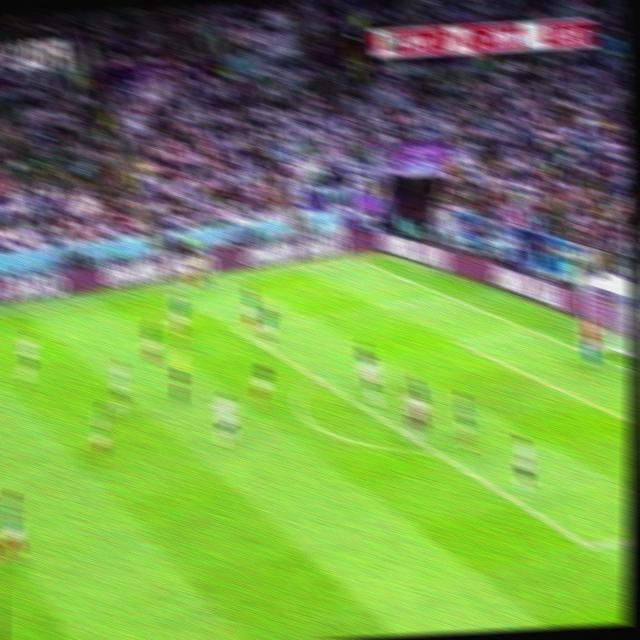bigarea_bottom_inner: (581, 536, 599, 556)
bigarea_top_inner: (235, 321, 248, 335)
bigarea_top_outter: (442, 290, 455, 302)
bottom_arc_area_intersection: (430, 445, 444, 459)
corner: (355, 257, 370, 266)
smallarea_top_inner: (457, 337, 472, 350)
smallarea_top_outter: (528, 325, 542, 337)
top_arc_area_intersection: (309, 370, 326, 385)
